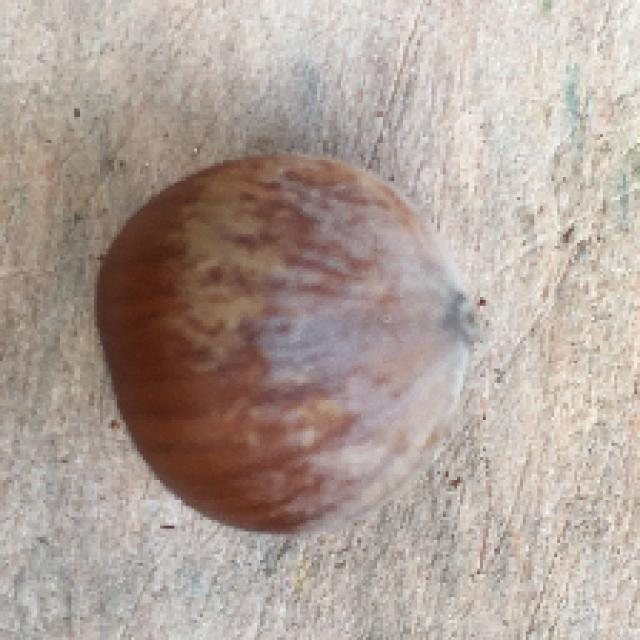QualityHazelnut: (85, 154, 481, 539)
